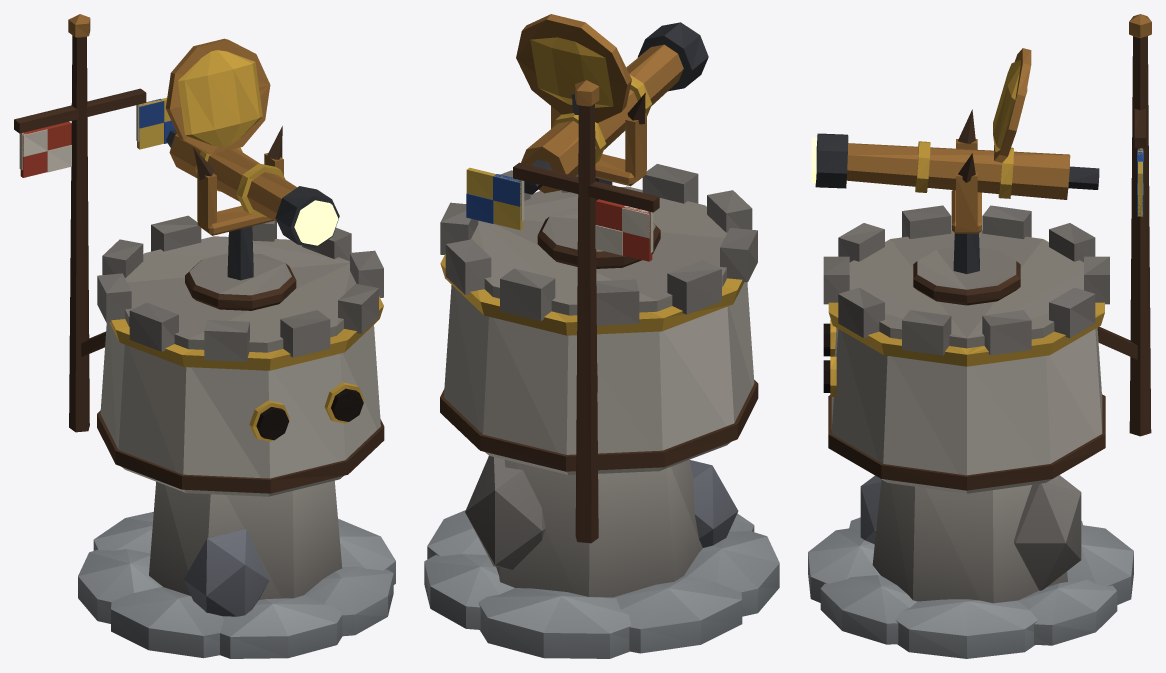
The model's file is owls_glare.glb.
The picture shows the model from 3 angles, left to right: view 1: azimuth 30°, elevation 25°; view 2: azimuth 150°, elevation 25°; view 3: azimuth 270°, elevation 25°; orthographic projection. The views are drawn at different scales.
Parts seen in each view (by area): view 1: owls_glare; view 2: owls_glare; view 3: owls_glare.
Part boxes in pixels (box(x1,y1,x2,y2)): owls_glare: box(14, 14, 395, 658); owls_glare: box(424, 14, 779, 658); owls_glare: box(808, 14, 1151, 658).
Size of the model in its own units: 0.7464 by 1.4 by 0.7922.
